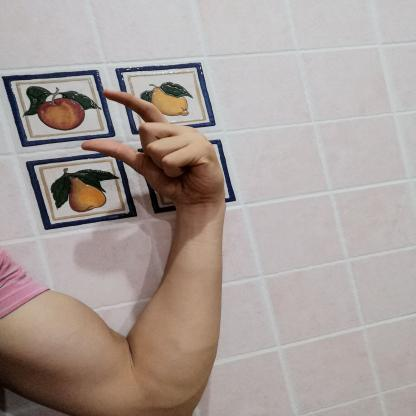DELL: (72, 83, 234, 213)
